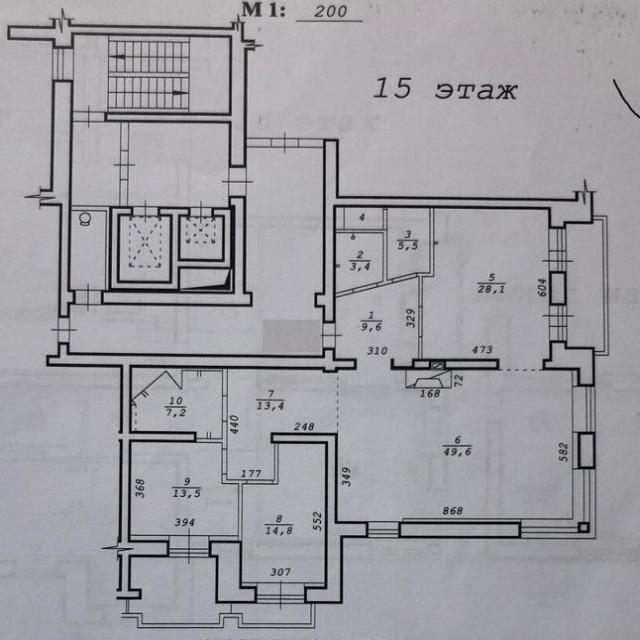Corridors: (69, 148, 323, 355), (227, 369, 337, 480), (127, 123, 228, 207), (336, 278, 417, 366), (130, 557, 230, 622), (132, 372, 222, 438), (71, 122, 120, 206), (387, 209, 430, 280), (336, 233, 383, 293), (71, 211, 104, 289), (232, 604, 309, 623), (346, 210, 383, 228)
Doors: (257, 578, 306, 611), (169, 527, 209, 567), (220, 166, 256, 196), (75, 281, 103, 315), (73, 104, 105, 131), (112, 150, 137, 181), (50, 317, 79, 343), (541, 251, 574, 273), (270, 130, 299, 155), (541, 305, 575, 326), (132, 199, 160, 224), (189, 200, 212, 225), (321, 323, 344, 348), (500, 359, 543, 371), (357, 359, 391, 370), (352, 282, 377, 294), (392, 273, 416, 284), (418, 307, 423, 336), (246, 480, 274, 485), (223, 396, 228, 421), (222, 449, 227, 474), (383, 209, 387, 229)
LBwalls: (45, 342, 357, 599), (313, 138, 599, 324), (7, 5, 266, 168), (100, 196, 253, 307), (270, 432, 368, 604), (22, 81, 76, 318), (108, 205, 234, 293), (208, 540, 258, 604), (543, 341, 595, 387), (399, 521, 521, 539), (411, 359, 499, 370), (548, 271, 567, 306), (578, 433, 596, 468), (578, 521, 590, 534)
Offices: (338, 371, 572, 521), (423, 209, 550, 360), (242, 444, 325, 582), (131, 442, 238, 535), (132, 442, 238, 534)
Stairs: (73, 35, 229, 112)
Walls: (120, 604, 316, 629), (335, 207, 394, 288), (131, 368, 222, 405), (71, 206, 109, 291), (593, 215, 610, 356), (416, 209, 439, 307), (221, 474, 247, 541), (197, 421, 228, 449), (390, 358, 411, 371), (297, 138, 323, 148), (120, 123, 129, 151), (119, 180, 128, 207), (247, 138, 272, 147), (572, 432, 578, 469), (131, 535, 168, 541), (274, 443, 279, 485), (209, 535, 238, 541), (336, 288, 352, 298), (222, 369, 228, 395), (418, 336, 422, 359), (305, 583, 324, 587), (242, 582, 257, 587), (572, 371, 577, 386), (126, 599, 129, 614), (230, 605, 232, 613)
Windows: (521, 468, 597, 539), (571, 385, 595, 433), (52, 48, 73, 81), (368, 521, 399, 538), (548, 228, 567, 251), (548, 326, 567, 341)
